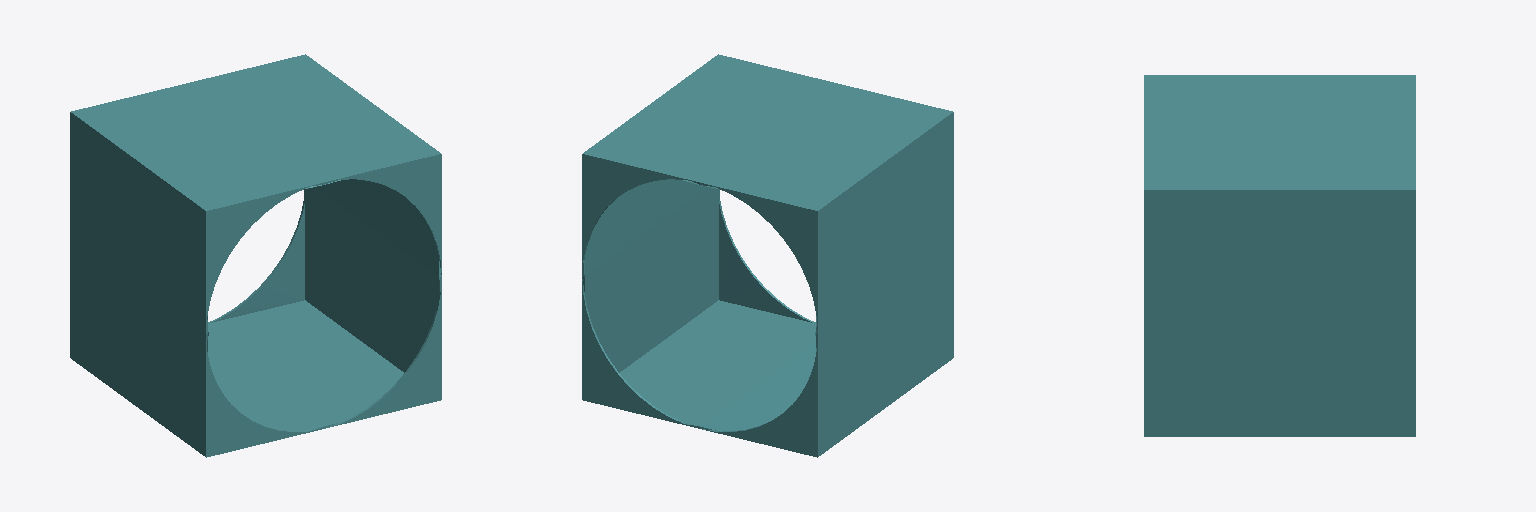
Rendered from wall_upd.obj.
3 renders of one model, left to right at view 1: azimuth 30°, elevation 25°; view 2: azimuth 150°, elevation 25°; view 3: azimuth 270°, elevation 25°, orthographic.
Parts seen in each view (by area): view 1: Cube; view 2: Cube; view 3: Cube.
Part boxes in pixels (bbox=[...]): Cube: bbox=[70, 54, 441, 457]; Cube: bbox=[582, 54, 953, 457]; Cube: bbox=[1144, 75, 1415, 436].
Bounding box in the file's own units: 1 × 1 × 1.